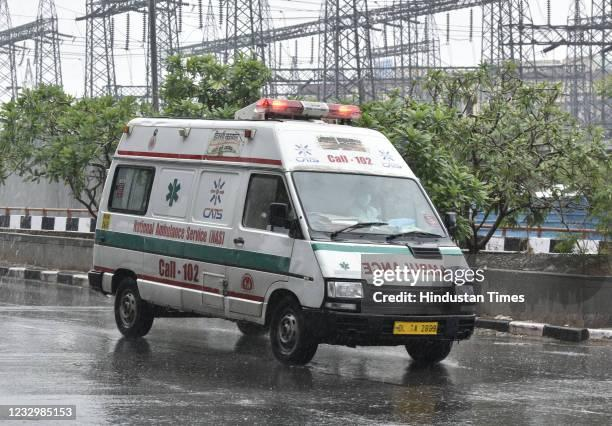ambulance: (118, 98, 450, 285)
